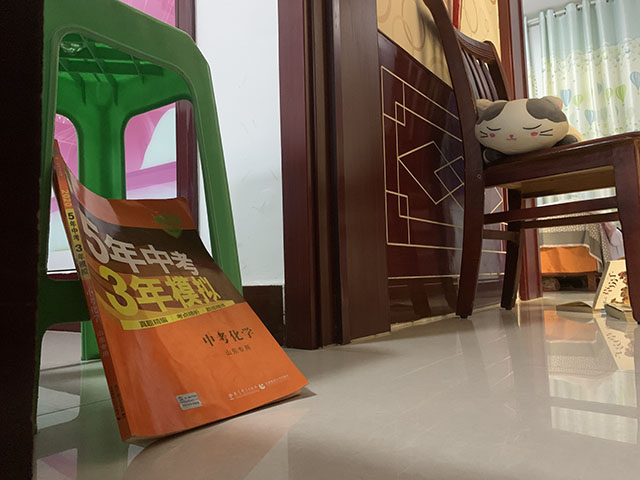book: (49, 138, 311, 447), (556, 259, 636, 321)
stool: (31, 1, 245, 437), (424, 1, 640, 318)
